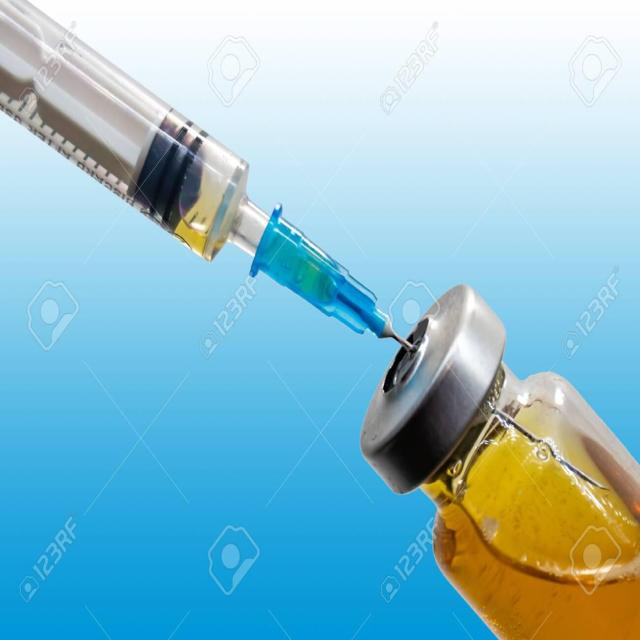B3: (0, 0, 358, 322), (355, 278, 640, 640)
